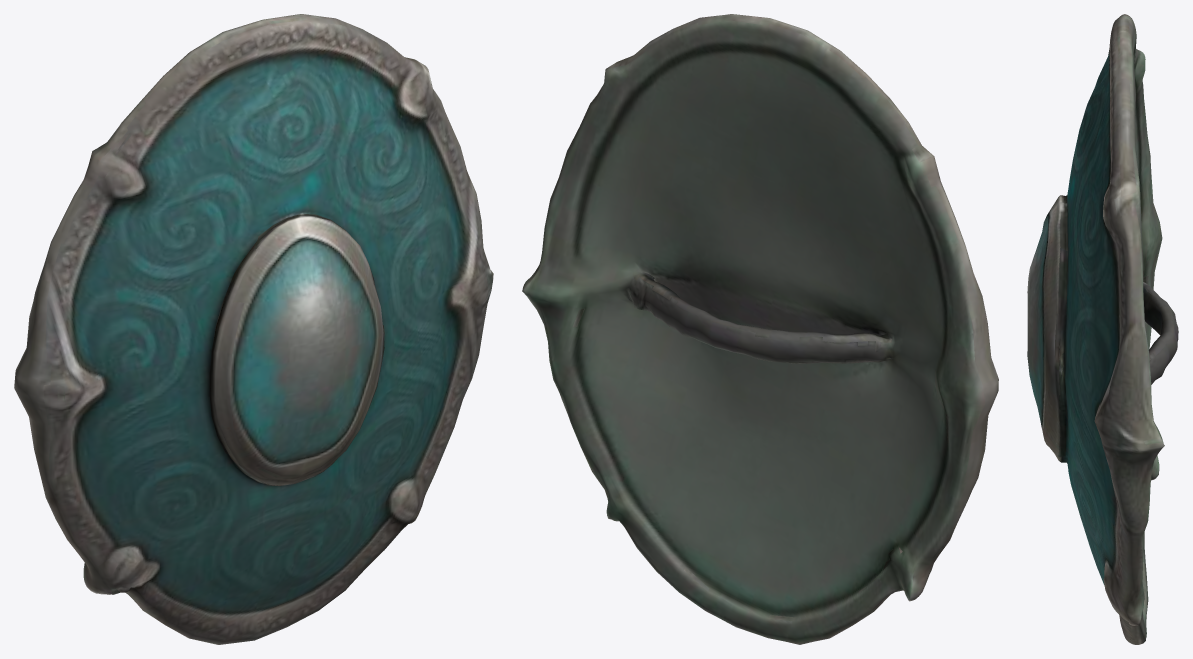
Rendered from PF_Shield5.glb.
3 views of the same model, side by side, from view 1: azimuth 30°, elevation 25°; view 2: azimuth 150°, elevation 25°; view 3: azimuth 270°, elevation 25° (orthographic). The views are drawn at different scales.
Bounding box in the file's own units: 1.6 × 2 × 0.4587.
1 material, 1 textured.
